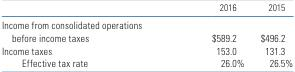table: (0, 1, 292, 68)
table column: (0, 1, 176, 68), (176, 1, 251, 68), (251, 1, 292, 68)
table column header: (0, 1, 292, 15)
table row: (0, 15, 292, 43), (0, 1, 292, 15), (0, 43, 292, 56), (0, 56, 292, 68)
